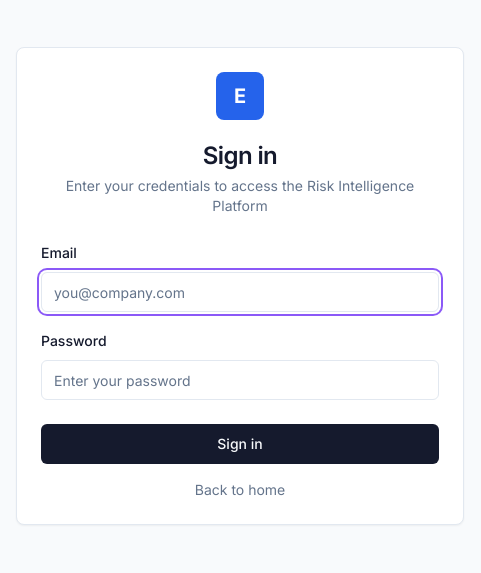
Test: LoginPage › Form Submission › should show generic error on unexpected failure
The image size is (481, 573).
Type "test@example.com" into the field labelled "Email" at (240, 292), box [41,272,439,312]
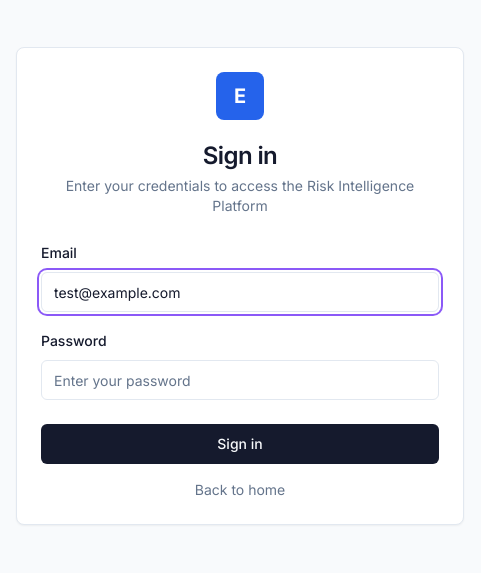
Type "password123" into the password field labelled "Password" at (240, 380), box [41,360,439,400]
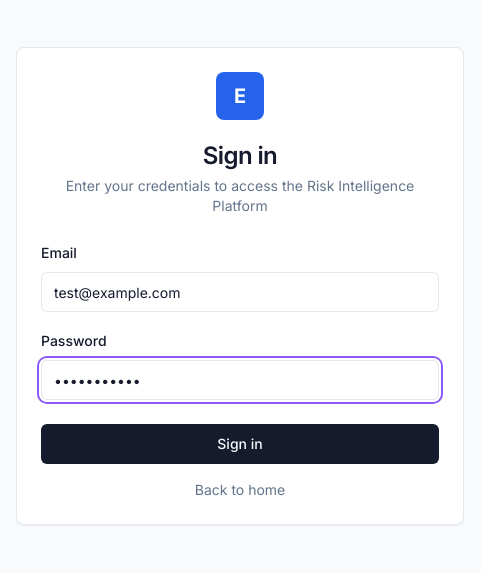
Click the button "Sign in" at (240, 444), box [41,424,439,464]
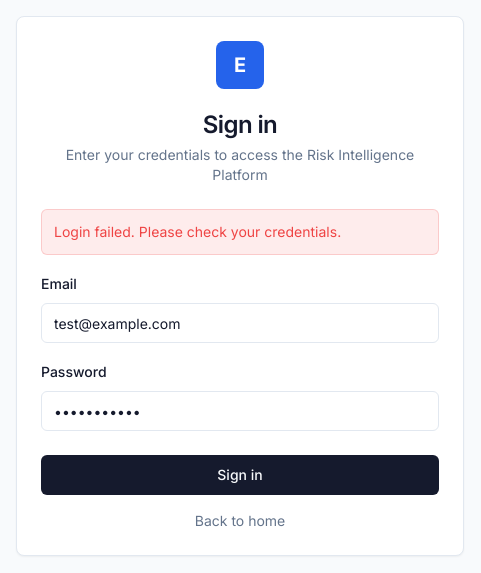
Expected: the text "Login failed. Please check your credentials." is shown, [41,209,439,255]
